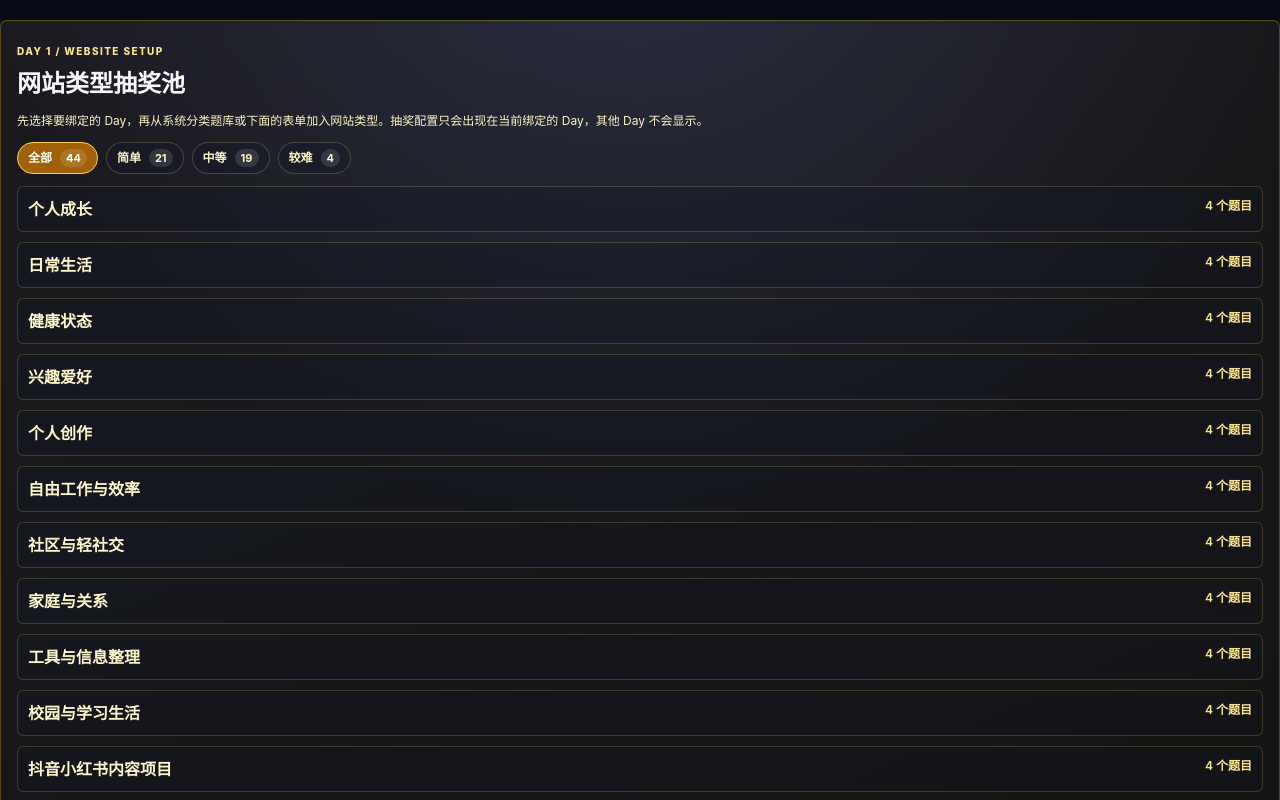
Test: WebsiteLotteryManager › lets a teacher add a categorized system topic into the lottery pool
Click the text "日常生活".
click(60, 265)  # box [28,253,92,277]
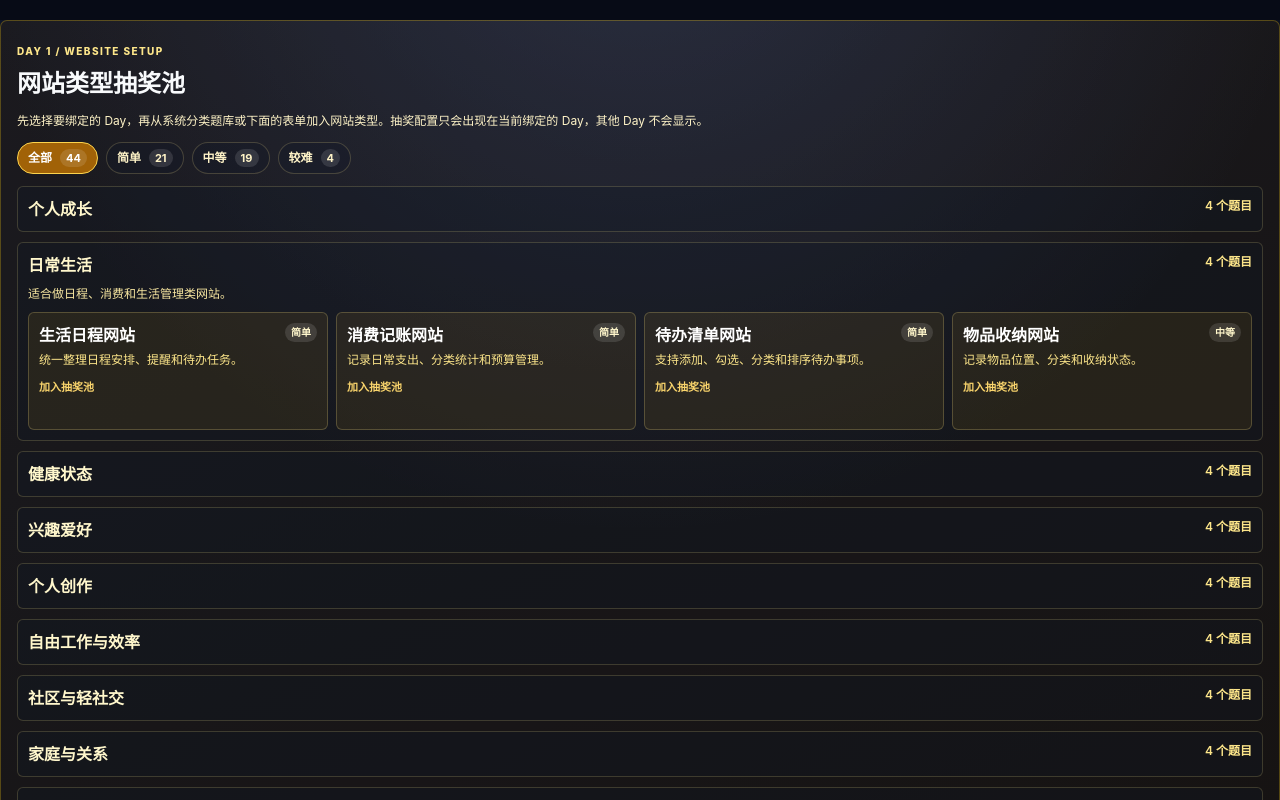
Click the button "消费记账网站 简单 记录日常支出、分类统计和预算管理。 加入抽奖池".
click(395, 335)  # box [336,312,636,430]
(page scrolled)
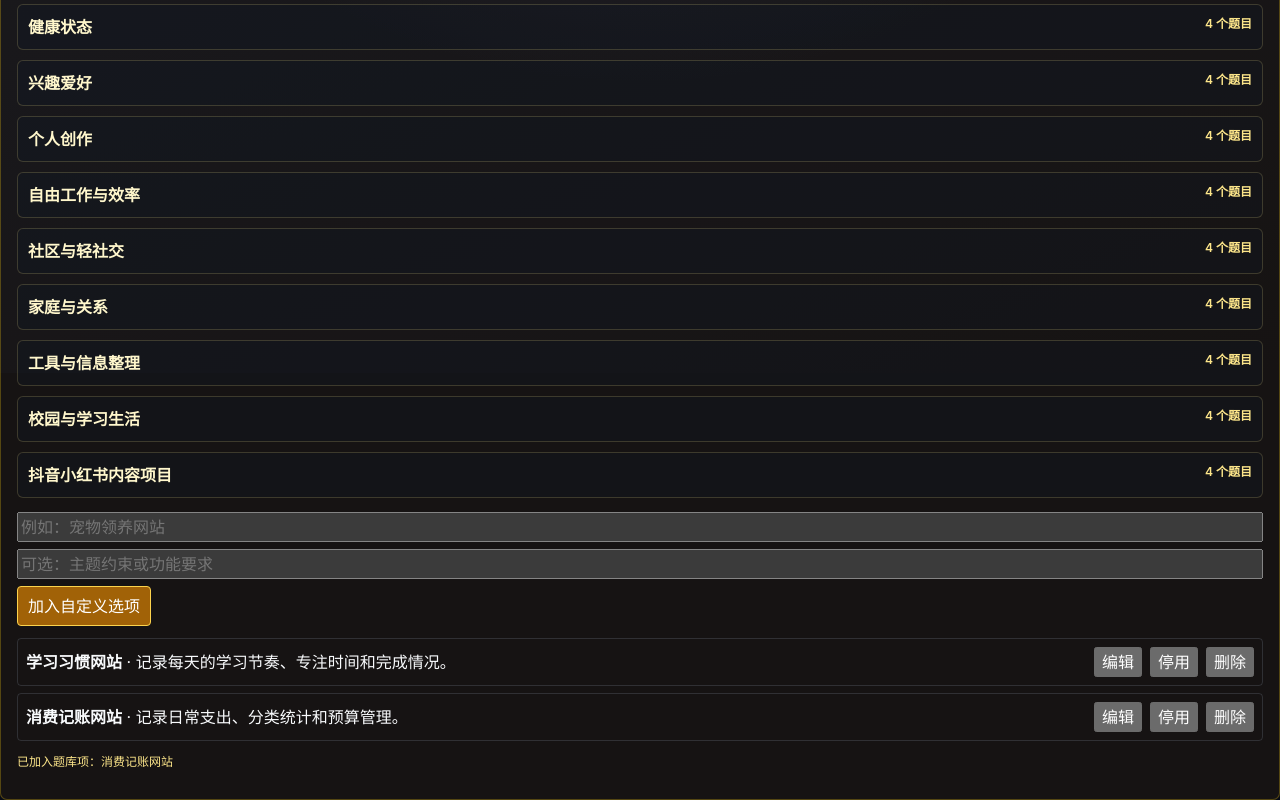
Expected: the text "已加入题库项：消费记账网站" is shown, [17,754,173,769]
